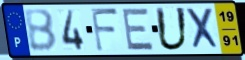4: (60, 8, 86, 52)
B: (23, 8, 59, 53)
E: (121, 7, 156, 52)
F: (89, 7, 121, 53)
U: (153, 6, 190, 53)
X: (184, 7, 222, 51)
